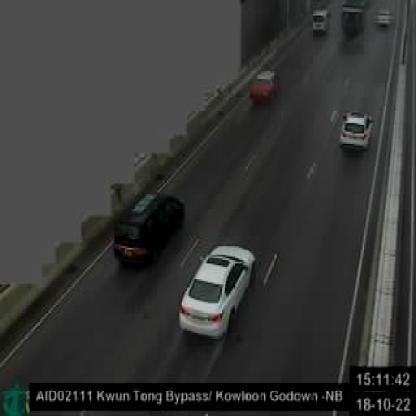Car: (177, 242, 255, 338), (110, 193, 184, 269), (338, 108, 376, 155), (247, 66, 283, 108), (310, 7, 332, 37), (374, 5, 392, 29)
Truck: (340, 0, 368, 38)
